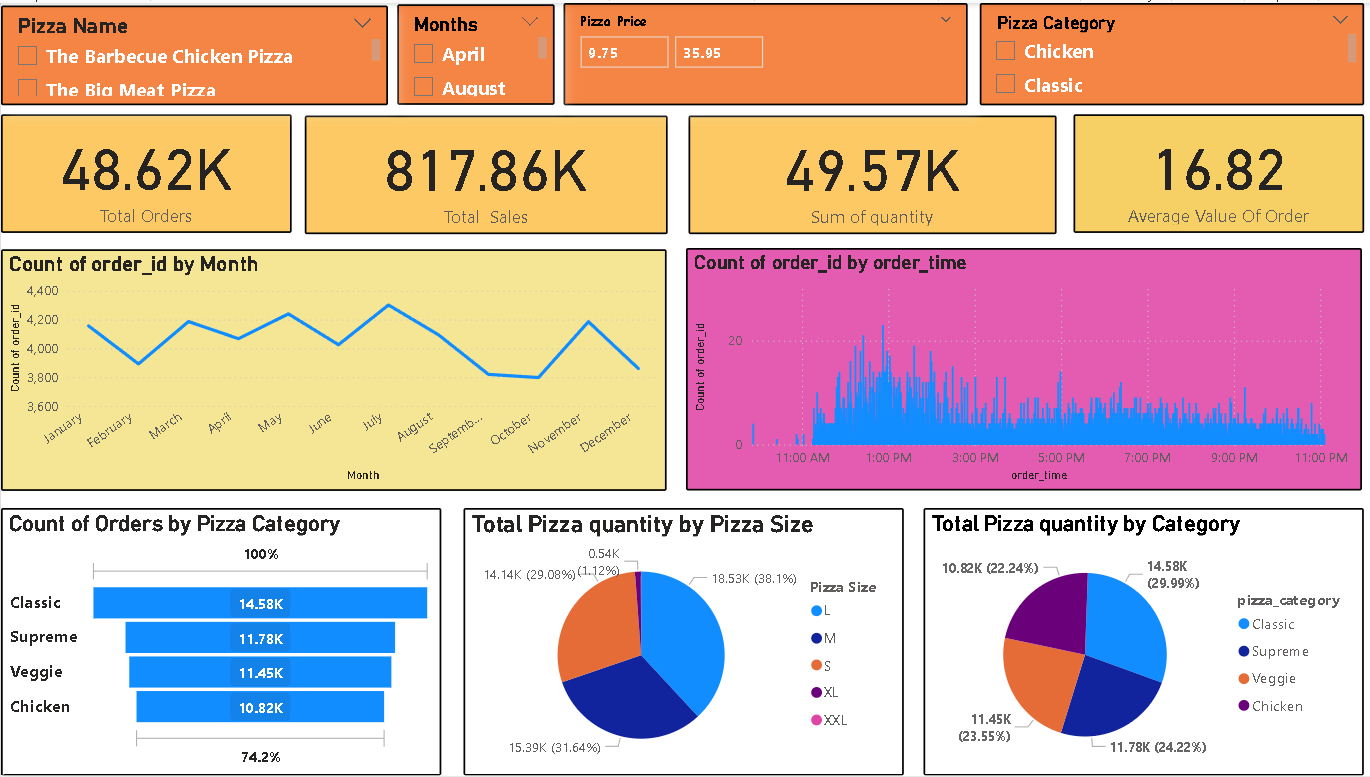

The page's visual inventory and layout, read from the dashboard file:
{"tool":"powerbi","page":{"name":"Page 1","canvas":[1280,720],"ordinal":0},"visuals":[{"type":"card","fields":{"Values":["Sum(pizza_sales csv.total_price)"]},"box":[282.2,104.5,337.4,110.5],"z":0},{"type":"funnel","title":"Count of Orders by Pizza Category","fields":{"Category":["pizza_sales csv.pizza_category"],"Y":["CountNonNull(pizza_sales csv.order_id)"]},"box":[0,470.2,409.5,249.8],"z":1000},{"type":"card","fields":{"Values":["CountNonNull(pizza_sales csv.order_id)"]},"box":[0,104,270.2,110.5],"z":2000},{"type":"pieChart","title":"Total Pizza quantity by Pizza Size","fields":{"Category":["pizza_sales csv.pizza_size"],"Y":["CountNonNull(pizza_sales csv.quantity)"]},"box":[429.9,470.2,409.5,249.8],"z":3000},{"type":"card","fields":{"Values":["Sum(pizza_sales csv.quantity)"]},"box":[640,104.5,342.2,110.5],"z":4000},{"type":"pieChart","title":"Total Pizza quantity by Category","fields":{"Category":["pizza_sales csv.pizza_category"],"Y":["CountNonNull(pizza_sales csv.quantity)"]},"box":[858.5,470.2,409.5,249.8],"z":5000},{"type":"card","fields":{"Values":["Avg(pizza_sales csv.total_price)"]},"box":[997.8,104,270.2,110.5],"z":6000},{"type":"slicer","fields":{"Values":["pizza_sales csv.unit_price"]},"box":[523.5,0,375.8,94.9],"z":7000},{"type":"lineChart","fields":{"Category":["pizza_sales csv.order_date.Variation.Date Hierarchy.Month"],"Y":["CountNonNull(pizza_sales csv.order_id)"]},"box":[0,228.9,619.6,224.5],"z":8000},{"type":"slicer","fields":{"Values":["pizza_sales csv.Order_Date_Month"]},"box":[368.6,1.2,146.5,93.7],"z":9000},{"type":"lineStackedColumnComboChart","fields":{"Category":["pizza_sales csv.order_time"],"Y":["CountNonNull(pizza_sales csv.order_id)"]},"box":[637.6,227.8,628.7,225.6],"z":10000},{"type":"slicer","fields":{"Values":["pizza_sales csv.pizza_name"]},"box":[0,2.4,360.2,92.5],"z":11000},{"type":"slicer","fields":{"Values":["pizza_sales csv.pizza_category"]},"box":[910.2,0,357.8,94.9],"z":12000}]}

Visuals, with their boxes in screenshot pixels (x1, y1, x2, y2), scaled from the page's 1280x720 canvas onto the 1370x777 screenshot:
card - Sum(pizza_sales csv.total_price): (x1=302, y1=113, x2=663, y2=232)
"Count of Orders by Pizza Category" funnel: (x1=0, y1=507, x2=438, y2=776)
card - CountNonNull(pizza_sales csv.order_id): (x1=0, y1=112, x2=289, y2=231)
"Total Pizza quantity by Pizza Size" pieChart: (x1=460, y1=507, x2=898, y2=776)
card - Sum(pizza_sales csv.quantity): (x1=685, y1=113, x2=1051, y2=232)
"Total Pizza quantity by Category" pieChart: (x1=919, y1=507, x2=1357, y2=776)
card - Avg(pizza_sales csv.total_price): (x1=1068, y1=112, x2=1357, y2=231)
slicer - pizza_sales csv.unit_price: (x1=560, y1=0, x2=963, y2=102)
lineChart - pizza_sales csv.order_date.Variation.Date Hierarchy.Month x CountNonNull(pizza_sales csv.order_id): (x1=0, y1=247, x2=663, y2=489)
slicer - pizza_sales csv.Order_Date_Month: (x1=395, y1=1, x2=551, y2=102)
lineStackedColumnComboChart - pizza_sales csv.order_time x CountNonNull(pizza_sales csv.order_id): (x1=682, y1=246, x2=1355, y2=489)
slicer - pizza_sales csv.pizza_name: (x1=0, y1=3, x2=386, y2=102)
slicer - pizza_sales csv.pizza_category: (x1=974, y1=0, x2=1357, y2=102)
